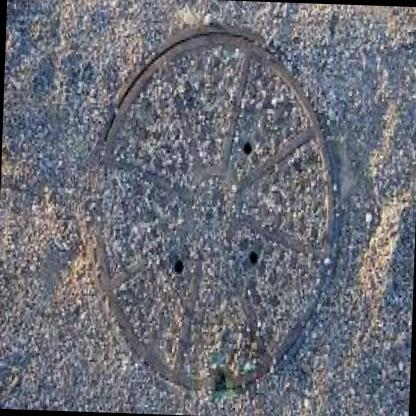manholes: (80, 14, 364, 403)
